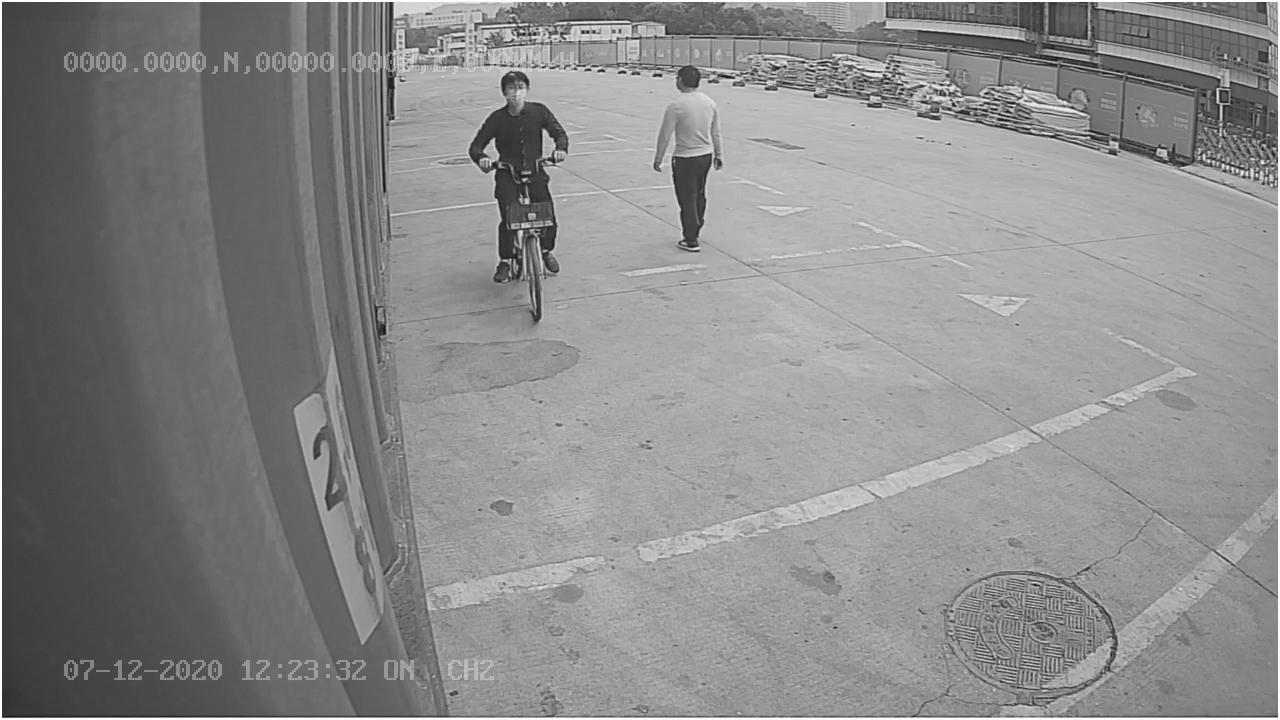person: (646, 60, 731, 258)
